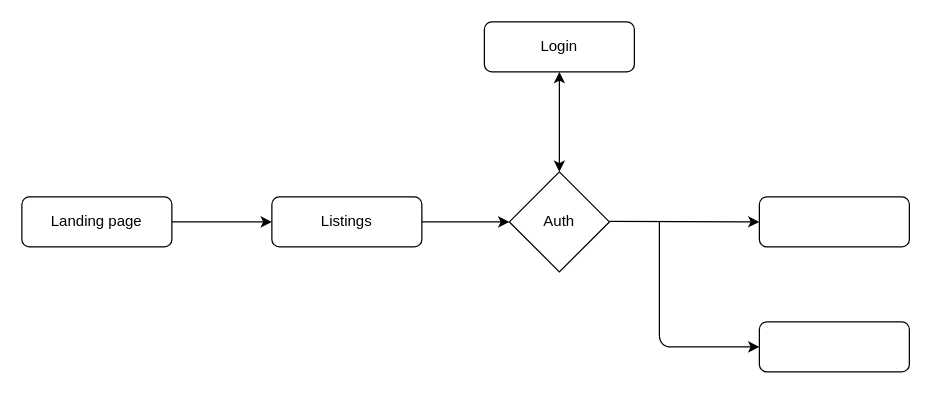
The diagram is 931 pixels wide and 394 high, and some of its shapes have lost their labels. Each missing label, with the centre of its shape:
Add listing: the point at 833,221
Edit: the point at 833,346
